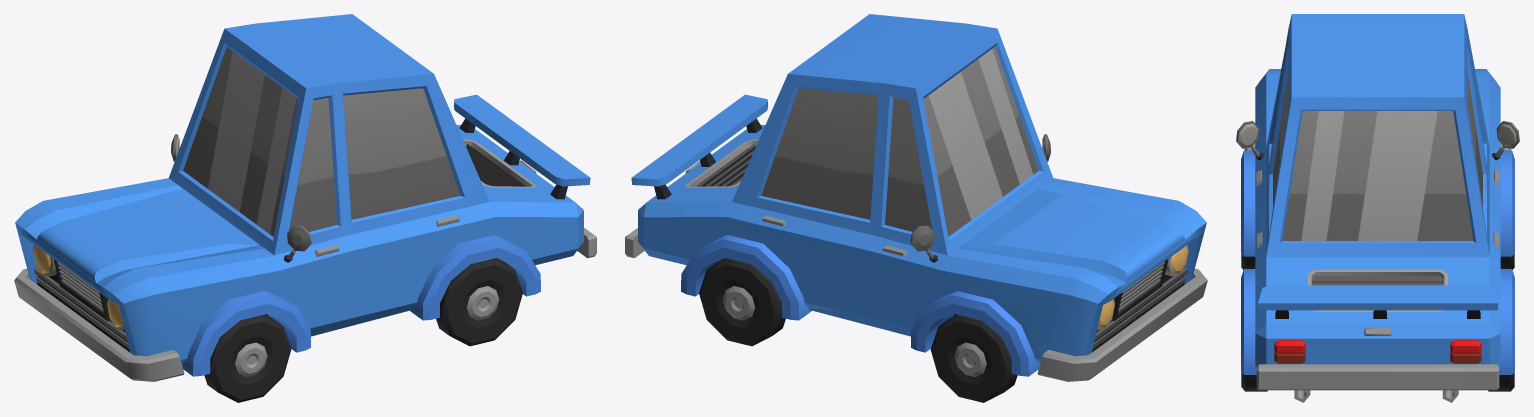
The model's file is Car_6_M.gltf.
3 views of the same model, side by side, from view 1: azimuth 30°, elevation 25°; view 2: azimuth 150°, elevation 25°; view 3: azimuth 270°, elevation 25° (orthographic). The views are drawn at different scales.
Visible parts, largest first — view 1: Car_6_M, RL, FL; view 2: Car_6_M, RR, FR; view 3: Car_6_M, RL, RR.
Boxes of the visible parts, x1,y1,x2,y2 form: Car_6_M: (14,14,596,381); RL: (436,258,522,346); FL: (204,314,291,402); Car_6_M: (625,14,1207,381); RR: (699,258,785,346); FR: (930,314,1017,402); Car_6_M: (1236,14,1519,402); RL: (1241,372,1267,391); RR: (1488,372,1514,391).
Size of the model in its own units: 3.1 by 1.72 by 1.51.
Materials: 4 (4 with a texture image).
